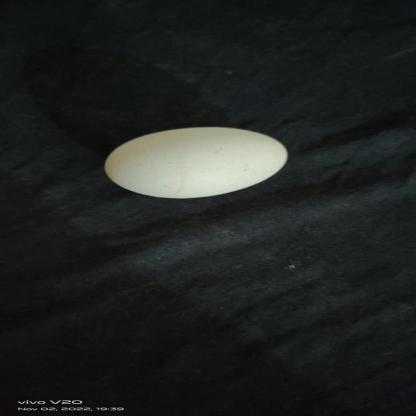egg: (101, 124, 288, 200)
